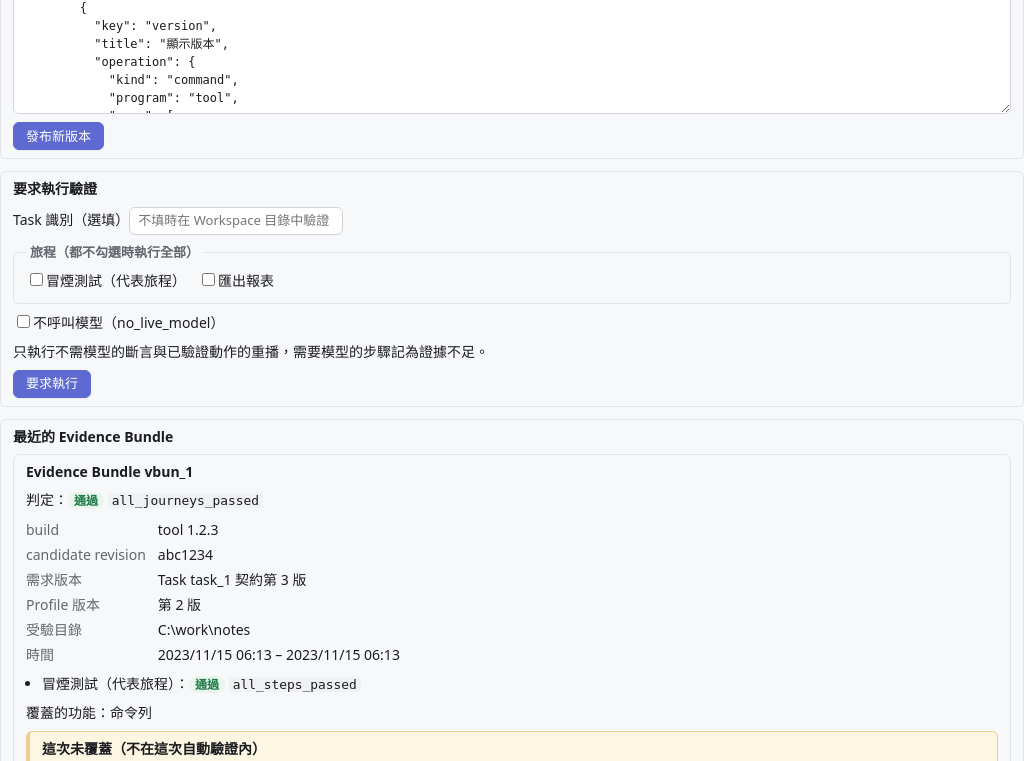
Test: 驗證 › 要求執行：不填 Task、不勾旅程時只送空的旅程清單；被拒時顯示錯誤代碼
(page scrolled)
Click the button "要求執行".
click(52, 384)  # box 13,370 -> 91,398
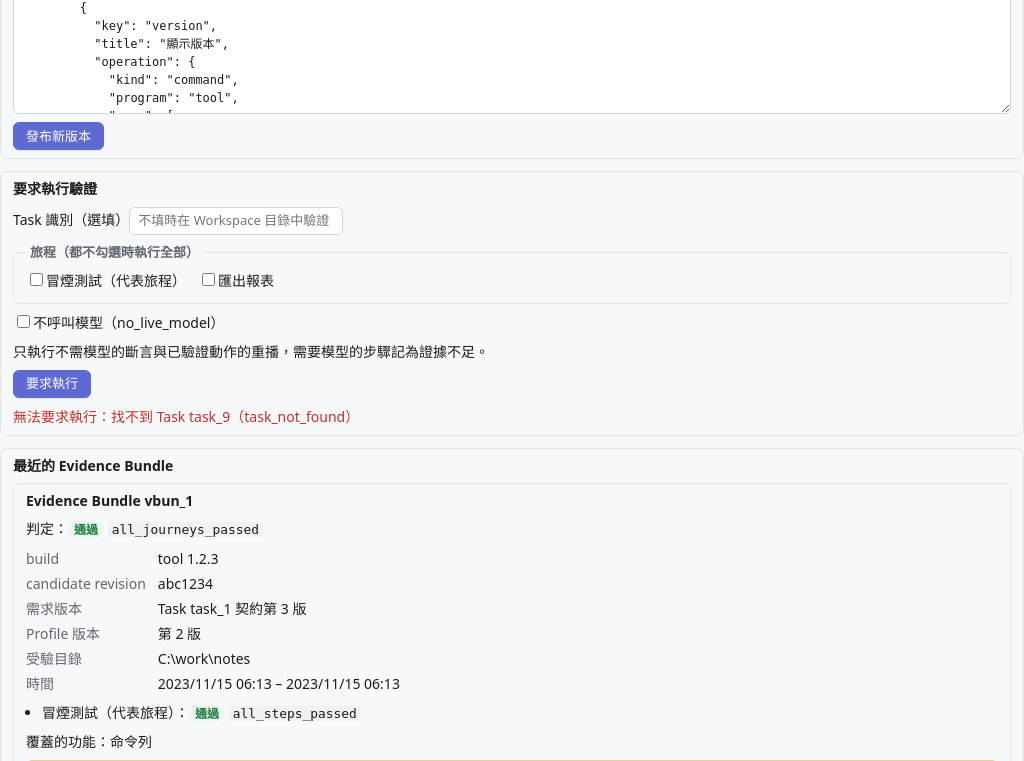
Expected: the message reads "無法要求執行：找不到 Task task_9（task_not_found）", 13,407 -> 359,426
